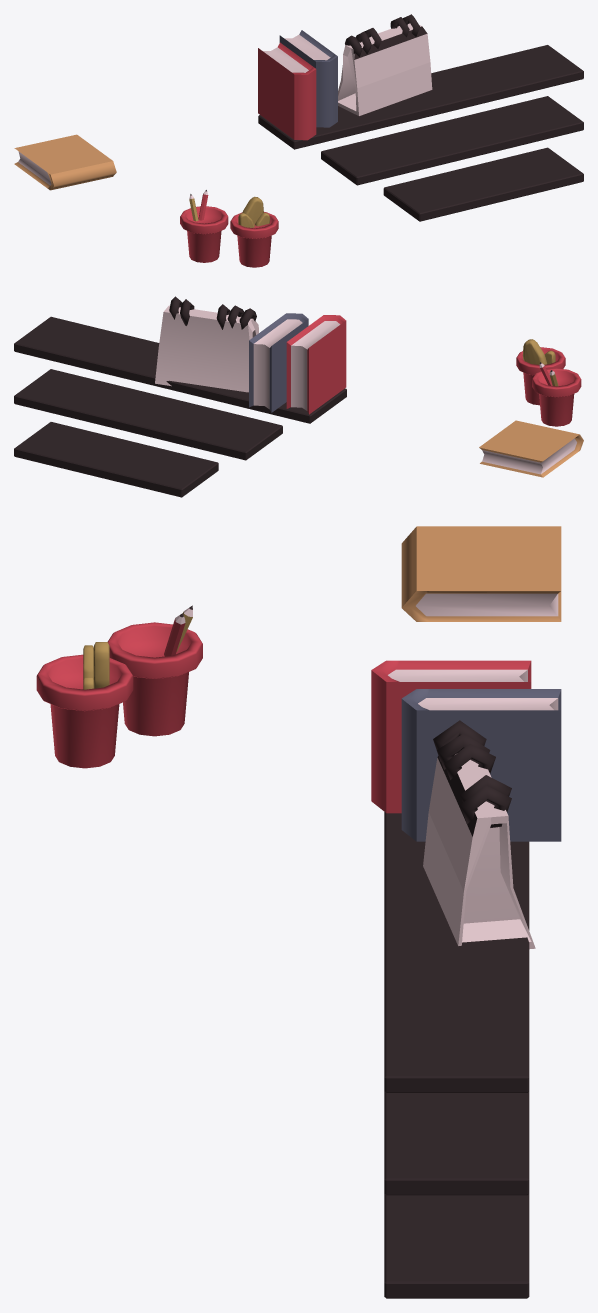
File: Lofi_Asset.fbx
The picture shows the model from 3 angles, top to bottom: view 1: azimuth 30°, elevation 25°; view 2: azimuth 150°, elevation 25°; view 3: azimuth 270°, elevation 25°; orthographic projection. The views are drawn at different scales.
Parts seen in each view (by area): view 1: Shelf, Calender1, BookRed, BookYellow, Katang (×2), BookBlue, Plant2; view 2: Shelf, Calender1, BookRed, BookYellow, BookBlue, Katang (×2), Plant2; view 3: Shelf, BookBlue, Calender1, BookYellow, Katang (×2), BookRed, Plant2.
Part boxes in pixels (left/top/right/bottom): Shelf: left=258, top=45, right=583, bottom=221; Calender1: left=338, top=14, right=432, bottom=115; BookRed: left=258, top=42, right=316, bottom=140; BookYellow: left=14, top=134, right=116, bottom=190; Katang (×2): left=180, top=206, right=278, bottom=267; BookBlue: left=279, top=30, right=337, bottom=127; Plant2: left=238, top=196, right=269, bottom=227; Shelf: left=14, top=316, right=346, bottom=497; Calender1: left=155, top=296, right=258, bottom=392; BookRed: left=286, top=315, right=346, bottom=414; BookYellow: left=479, top=420, right=583, bottom=477; BookBlue: left=249, top=313, right=308, bottom=412; Katang (×2): left=516, top=347, right=581, bottom=426; Plant2: left=522, top=339, right=555, bottom=364; Shelf: left=384, top=812, right=529, bottom=1298; BookBlue: left=401, top=689, right=561, bottom=841; Calender1: left=423, top=720, right=535, bottom=949; BookYellow: left=401, top=526, right=561, bottom=621; Katang (×2): left=36, top=622, right=202, bottom=768; BookRed: left=371, top=660, right=531, bottom=813; Plant2: left=83, top=642, right=109, bottom=689.
Size of the model in its own units: 839 by 282 by 362.
